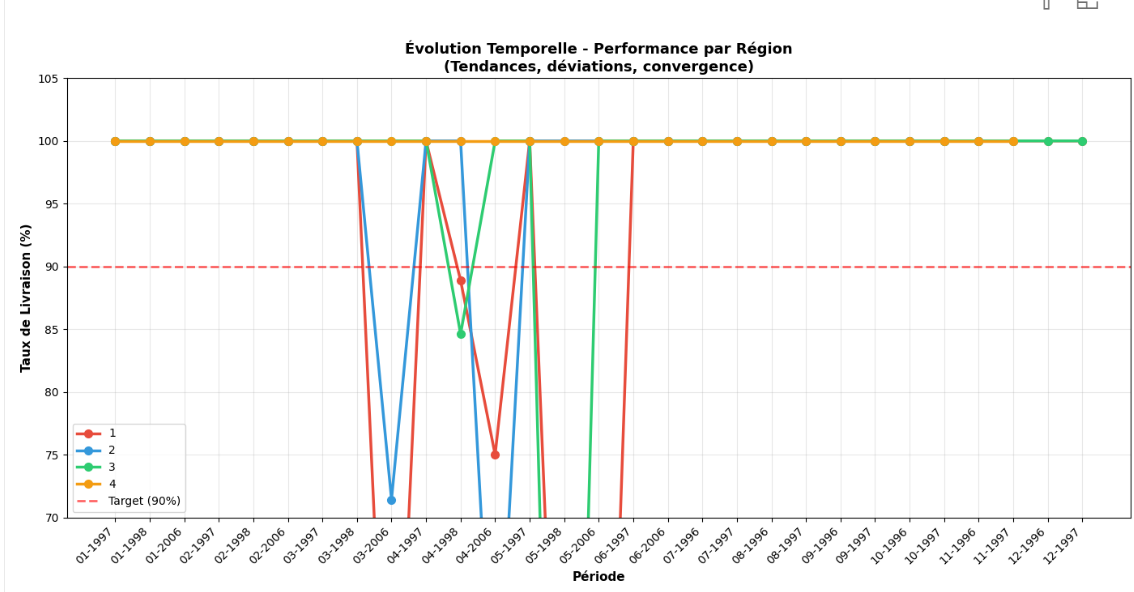

The dashboard page shown, as its layout file describes it:
{"tool":"powerbi","page":{"name":"ÉVOLUTION TEMPORELLE DES RÉGIONS","canvas":[1280,720],"ordinal":5},"visuals":[{"type":"pythonVisual","fields":{"Values":["Dim_client.City","Dim_client.CompanyName","Dim_employee.Nom","Dim_employee.Prenom","Dim_employee.RegionID","Dim_temps.annee","Dim_temps.mois_annee","TF_Commande.nbr_commande_livrees","TF_Commande.nbr_commande_non_livrees"]},"box":[10,0,1270,720],"z":0}]}

Visuals, with their boxes on the page's 1280x720 design canvas (x1, y1, x2, y2). These are canvas units, not pixel positions in the 1134x592 screenshot, which may show the page scaled, cropped or inside an application window:
pythonVisual - Dim_client.City x Dim_client.CompanyName: select_region(10, 0, 1280, 720)
